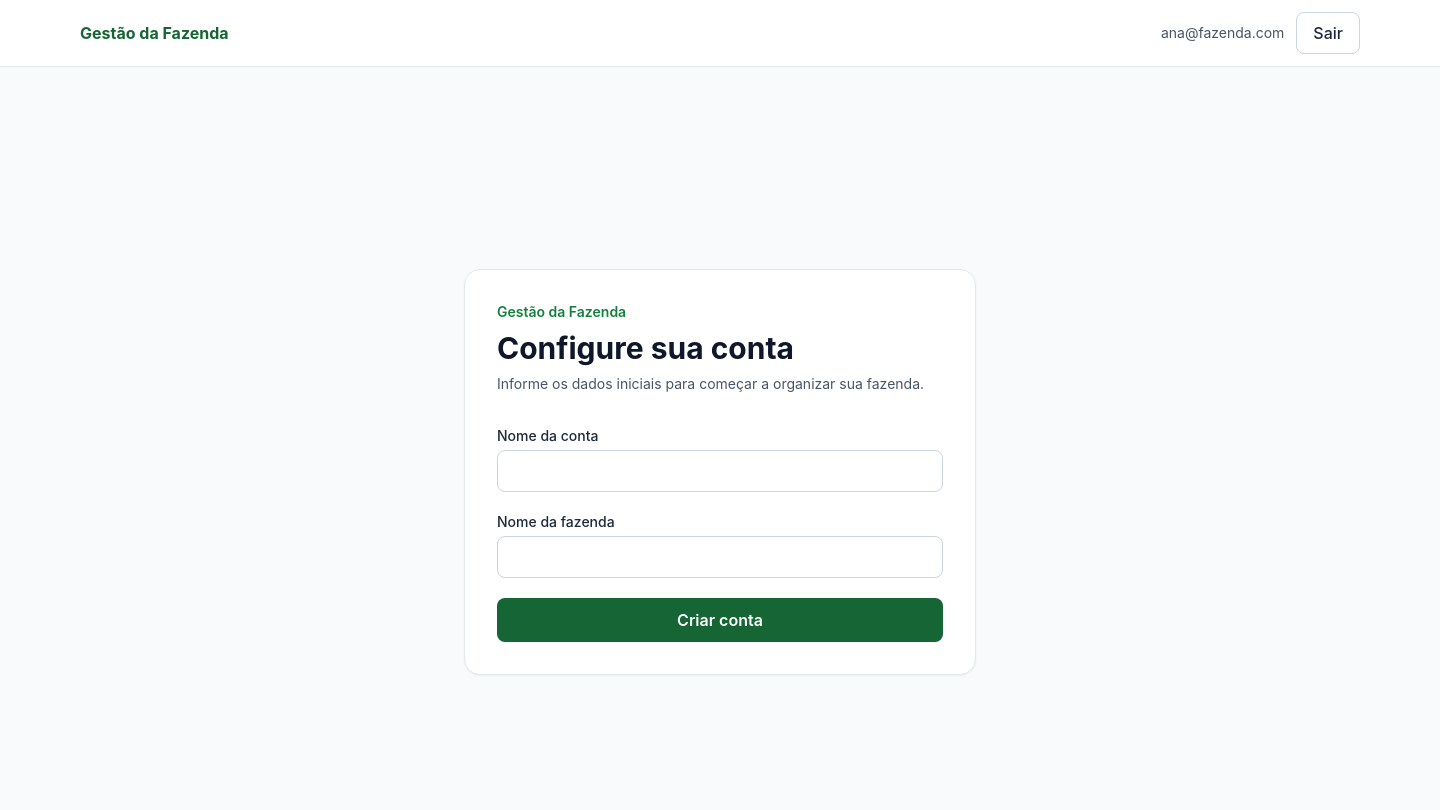
Scenario: application routes › opens the dashboard after initial account setup
In the field labelled "Nome da conta": (720, 471) [497,450,943,492], type "Fazenda Boa Vista"
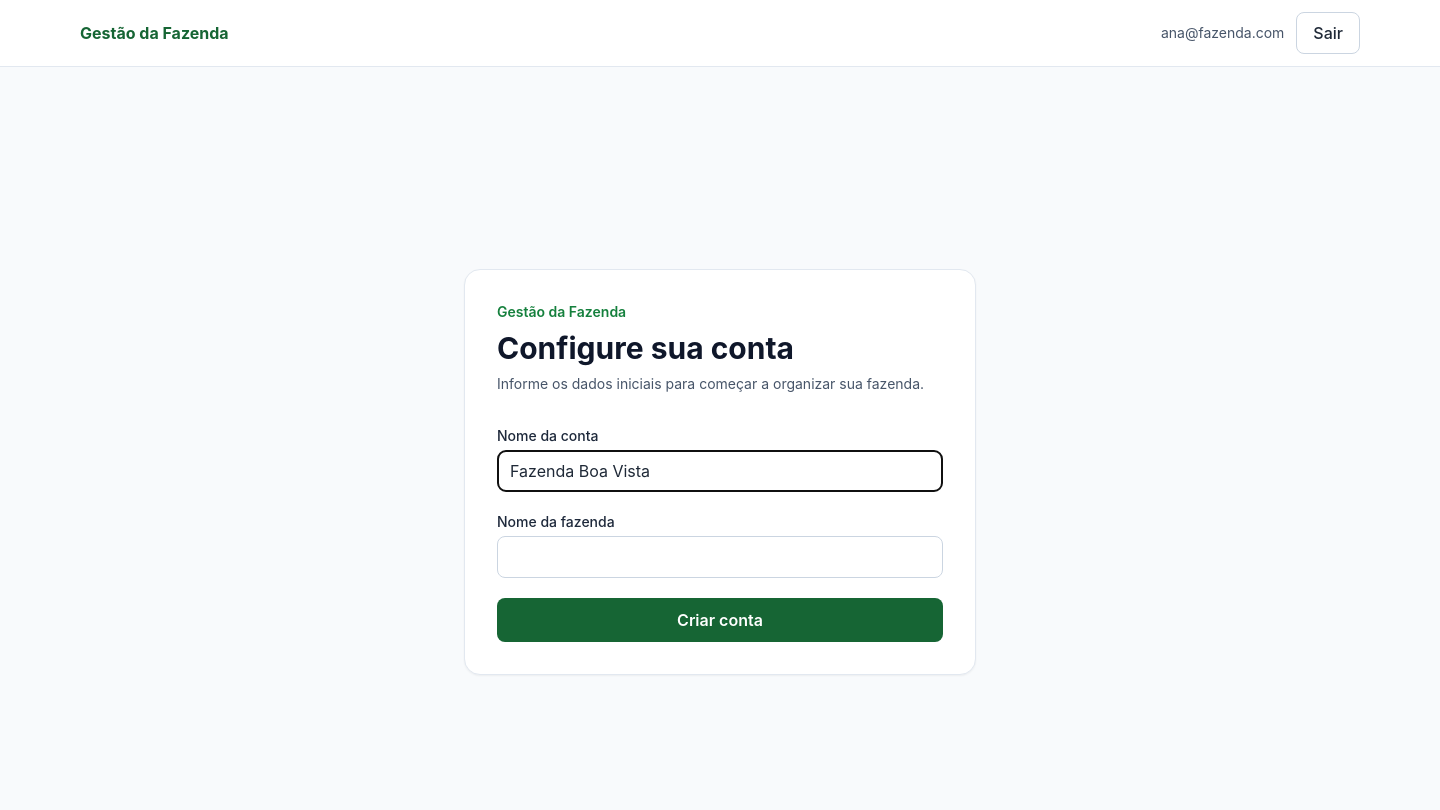
In the field labelled "Nome da fazenda": (720, 557) [497,536,943,578], type "Sede Nova"
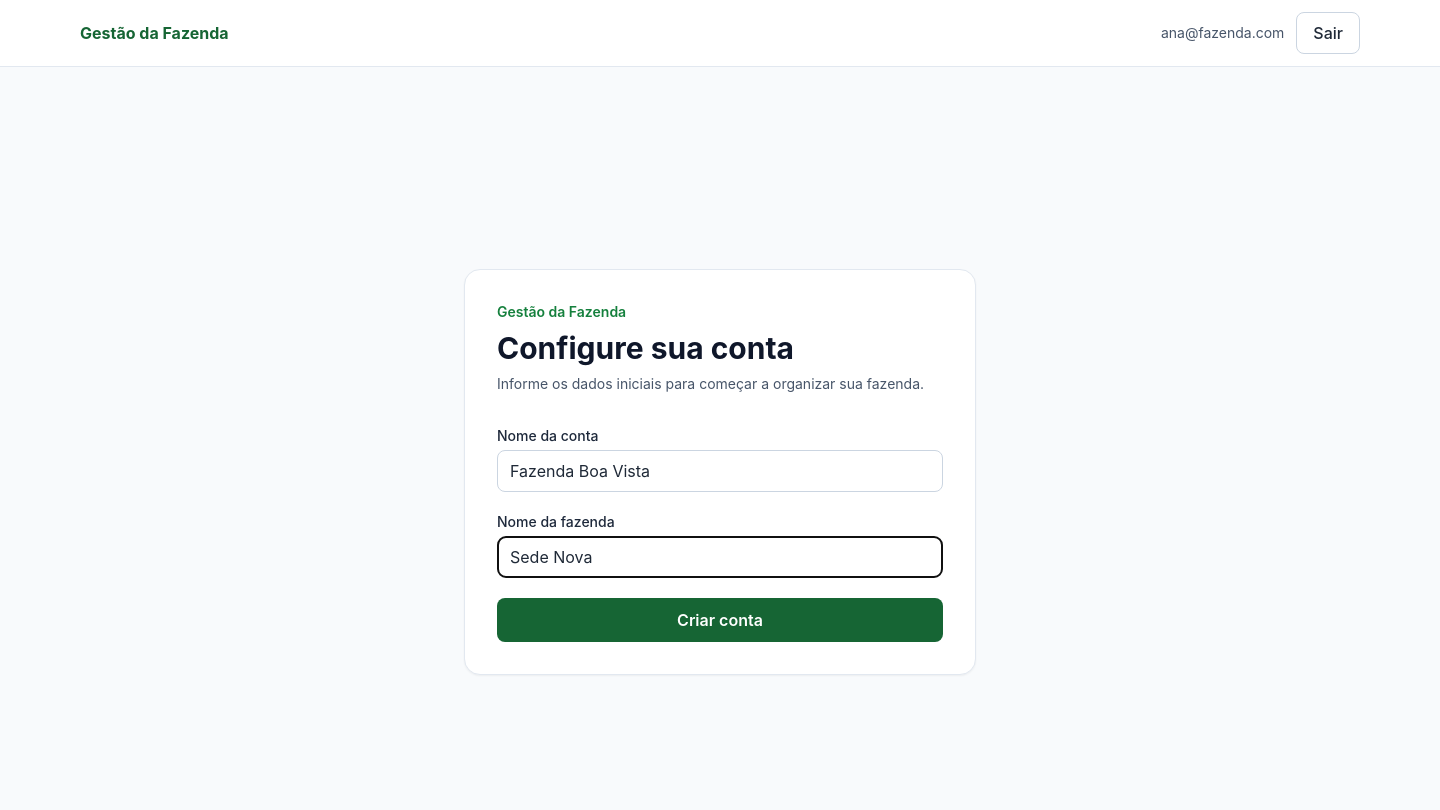
Click the button "Criar conta": (720, 620) [497,598,943,642]
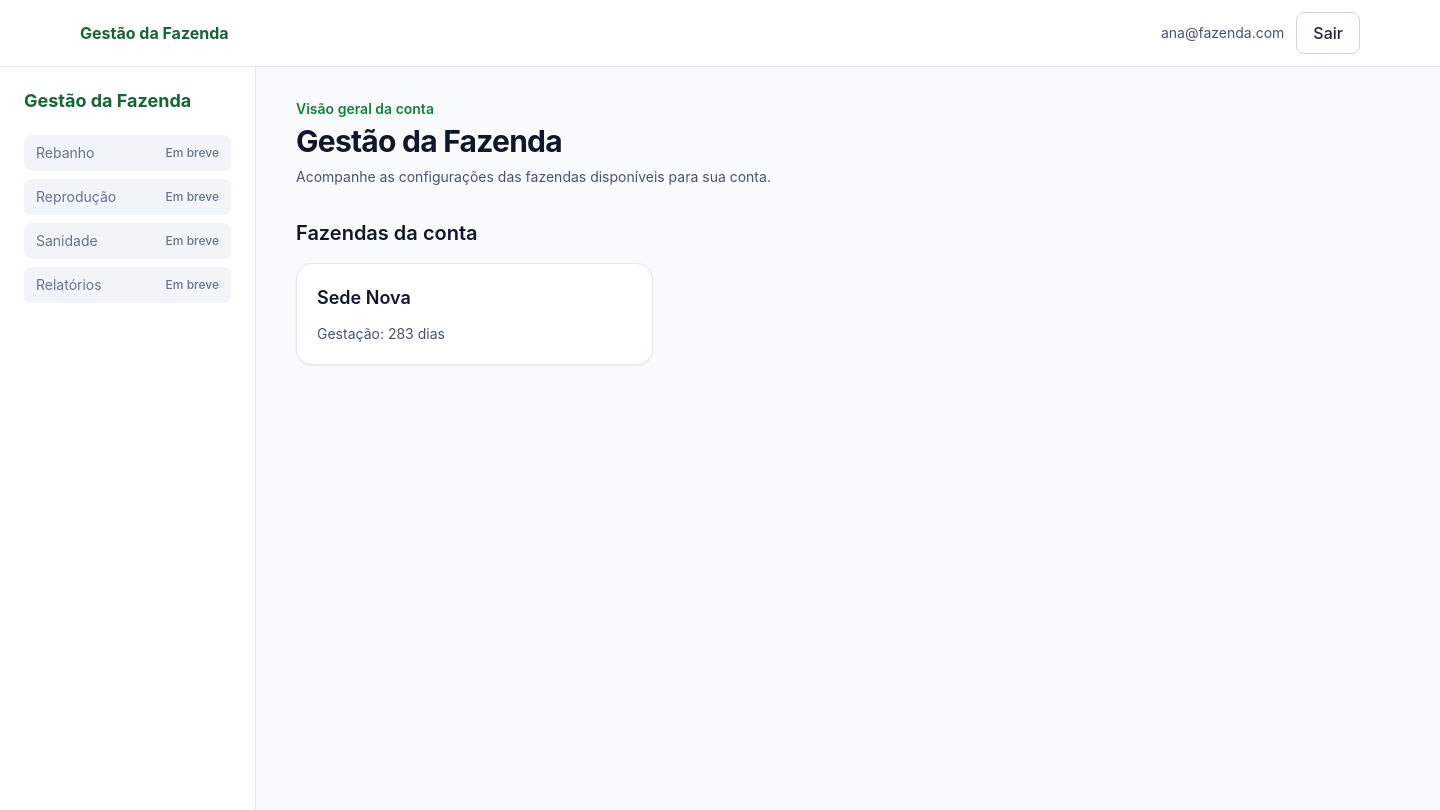
expect the heading "Sede Nova" is shown: met, box [317,287,411,308]
